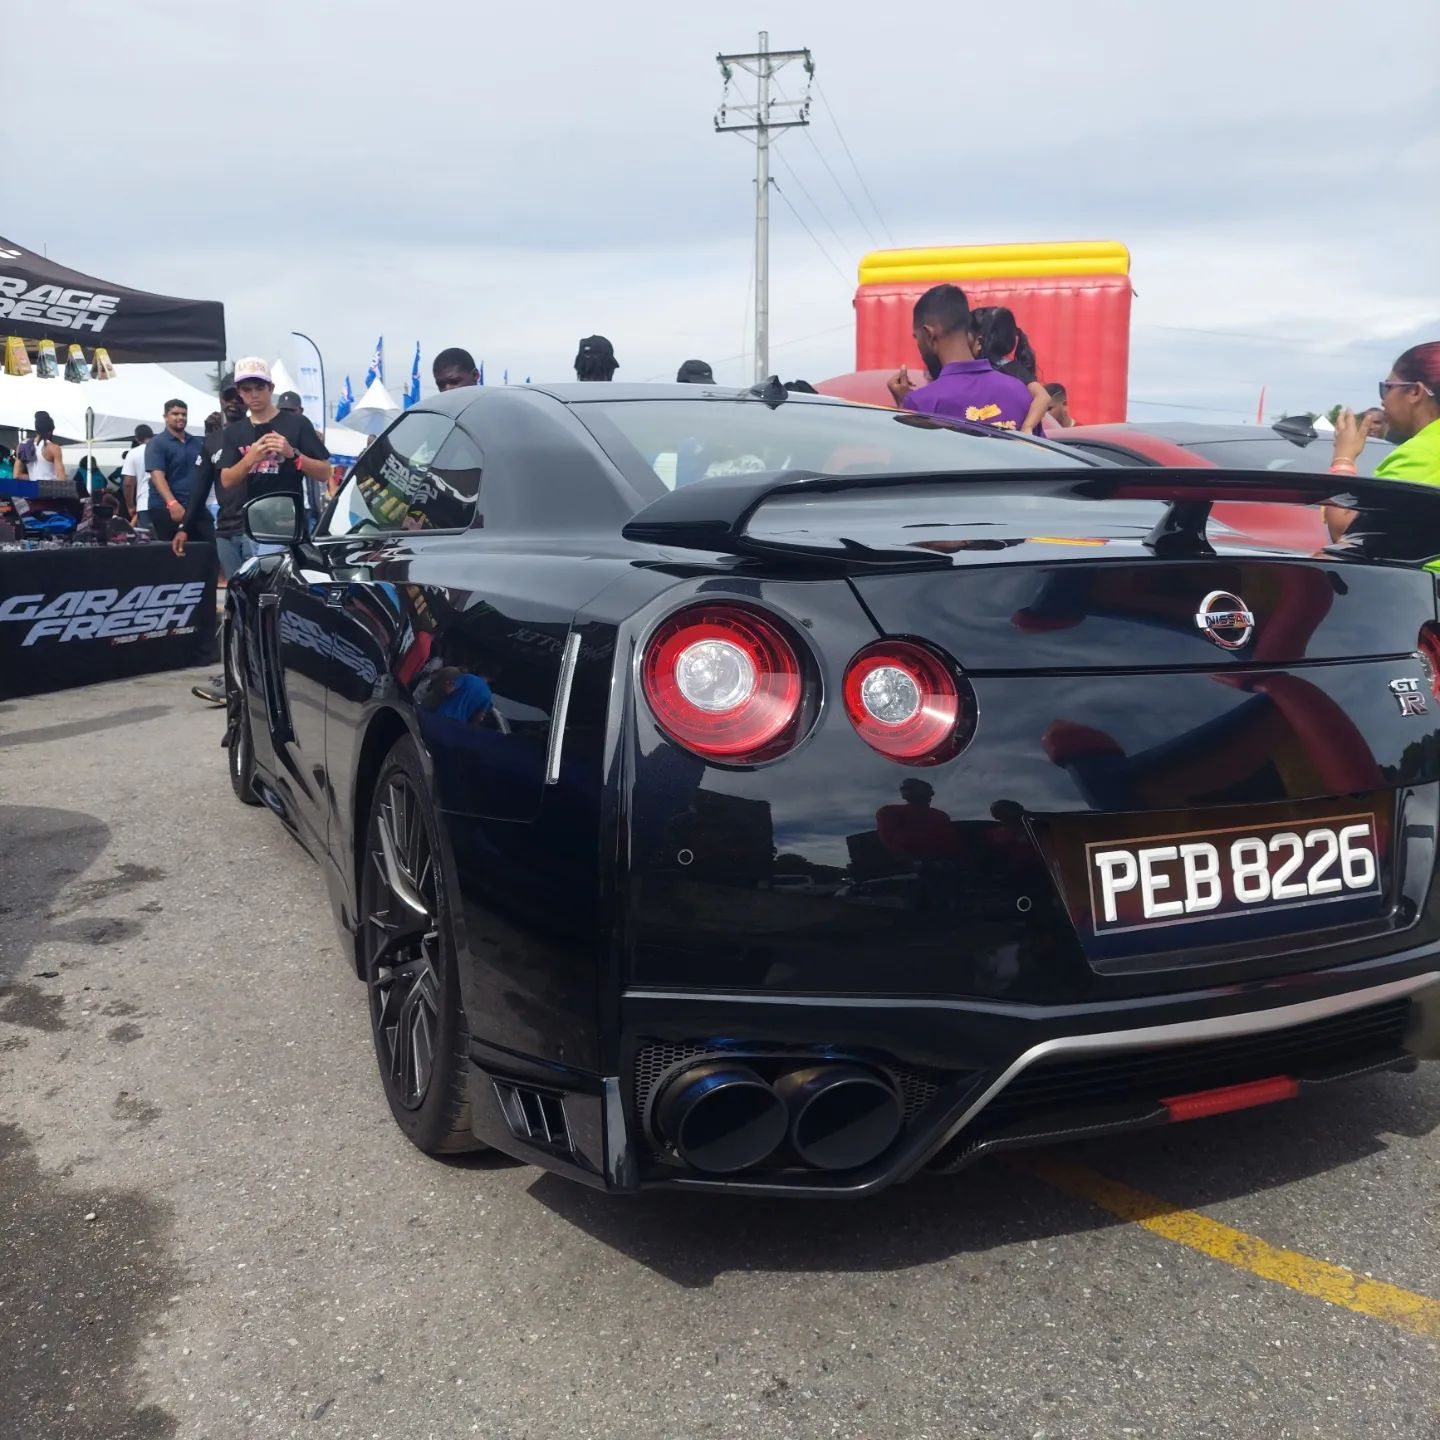License-Plate: (1085, 848, 1373, 931)
